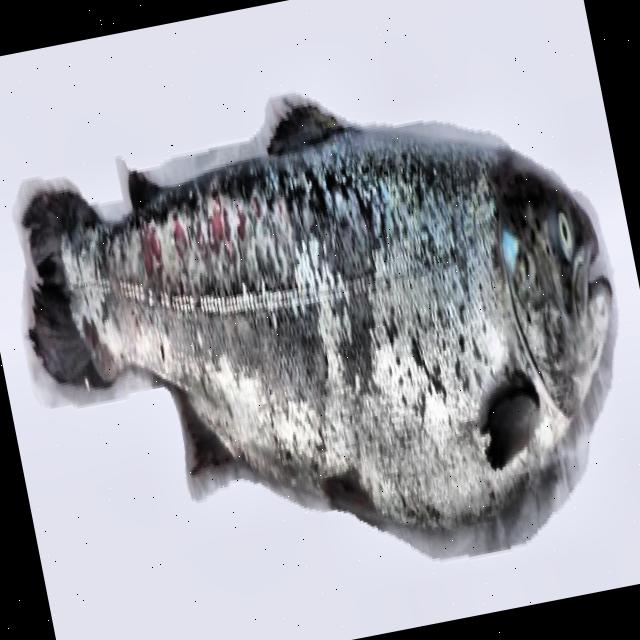mild_red: (100, 131, 610, 522)
